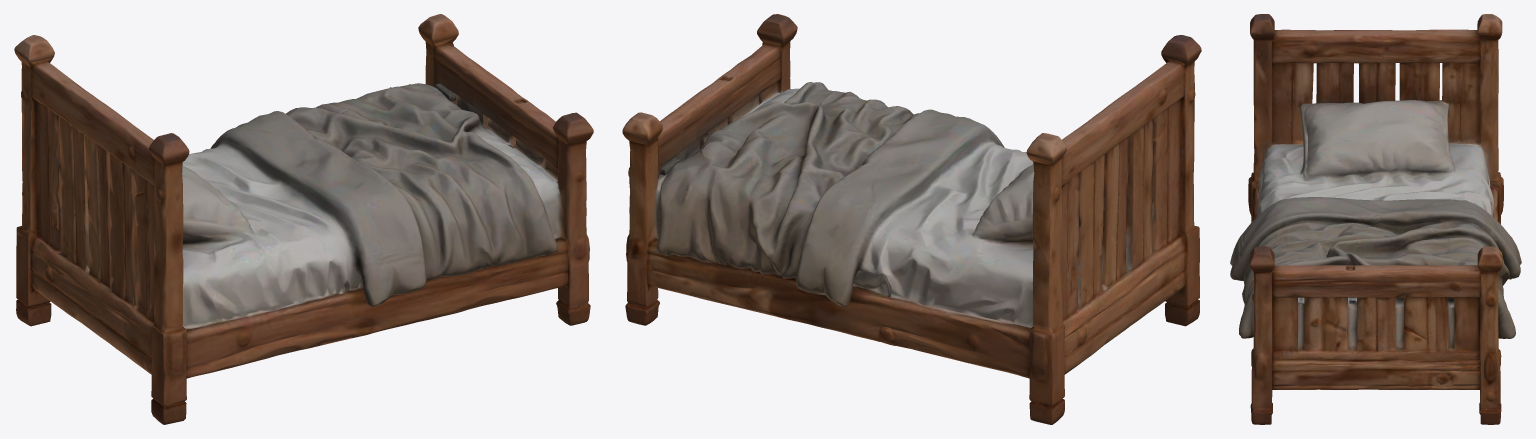
The model's file is prop_bed-BmbxCmRo.glb.
3 views of the same model, side by side, from view 1: azimuth 30°, elevation 25°; view 2: azimuth 150°, elevation 25°; view 3: azimuth 270°, elevation 25° (orthographic). The views are drawn at different scales.
Parts seen in each view (by area): view 1: tripo_node_e007d155-878f-4b3a-881f-457874a92594; view 2: tripo_node_e007d155-878f-4b3a-881f-457874a92594; view 3: tripo_node_e007d155-878f-4b3a-881f-457874a92594.
Part boxes in pixels (x1,y1,x2,y2): tripo_node_e007d155-878f-4b3a-881f-457874a92594: [14, 14, 593, 424]; tripo_node_e007d155-878f-4b3a-881f-457874a92594: [622, 14, 1201, 424]; tripo_node_e007d155-878f-4b3a-881f-457874a92594: [1230, 14, 1521, 424].
Bounding box in the file's own units: 1 × 0.6235 × 0.6936.
1 material, 1 textured.
